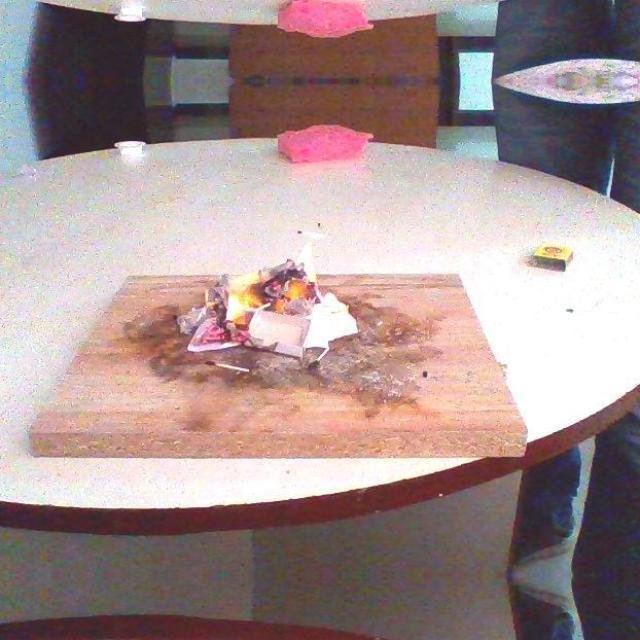smoke: (292, 241, 342, 306), (222, 270, 264, 323)
